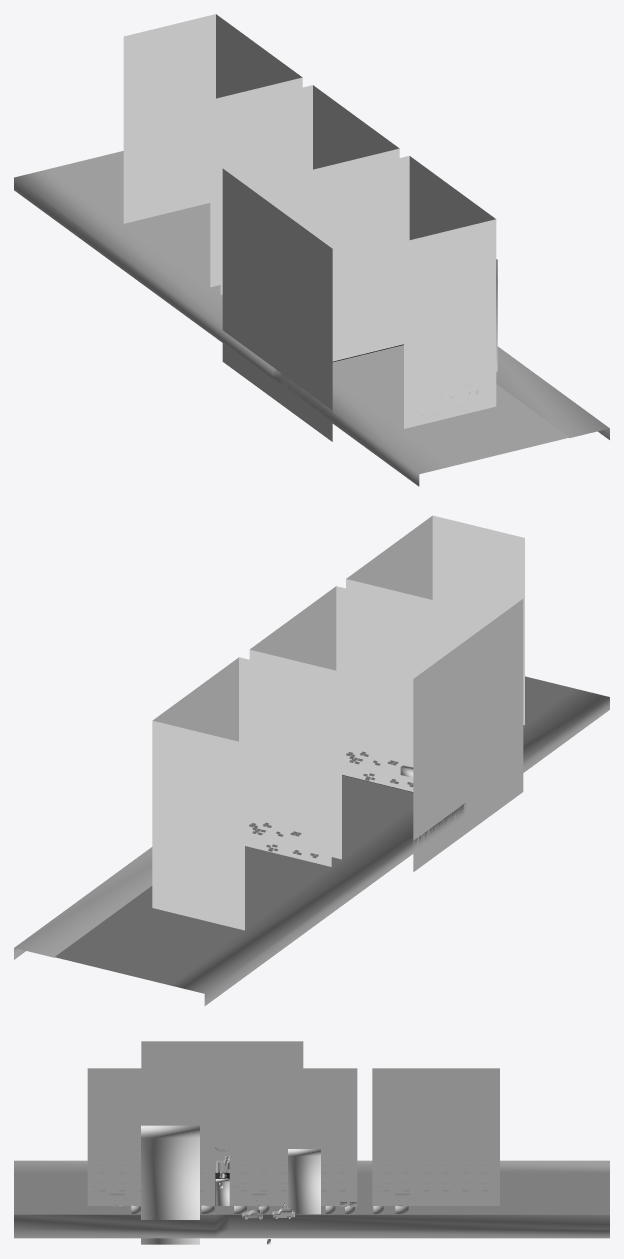
The model's file is alley.fbx.
3 views of the same model, one above another, from view 1: azimuth 30°, elevation 25°; view 2: azimuth 150°, elevation 25°; view 3: azimuth 270°, elevation 25° (orthographic). The views are drawn at different scales.
Visible parts, largest first — view 1: Group007, Group000, Group008, Group002, Group001; view 2: Group008, Group000, Group001, Group002, Group007; view 3: Group000, Group008, Group001, Group007, Group025, Group002, Group026, Group016.
Part boxes in pixels (bbox=[...]): Group007: bbox=[317, 155, 496, 428]; Group000: bbox=[14, 151, 609, 486]; Group008: bbox=[123, 14, 302, 287]; Group002: bbox=[222, 168, 332, 441]; Group001: bbox=[220, 85, 399, 294]; Group008: bbox=[152, 657, 331, 930]; Group000: bbox=[14, 676, 609, 1005]; Group001: bbox=[249, 586, 428, 859]; Group002: bbox=[413, 599, 523, 871]; Group007: bbox=[346, 515, 524, 725]; Group000: bbox=[14, 1160, 609, 1238]; Group008: bbox=[372, 1068, 499, 1206]; Group001: bbox=[229, 1068, 357, 1205]; Group007: bbox=[87, 1068, 215, 1206]; Group025: bbox=[141, 1125, 199, 1244]; Group002: bbox=[141, 1041, 303, 1160]; Group026: bbox=[288, 1149, 320, 1214]; Group016: bbox=[215, 1179, 229, 1205].
Size of the model in its own units: 1490 by 1466 by 4863.
